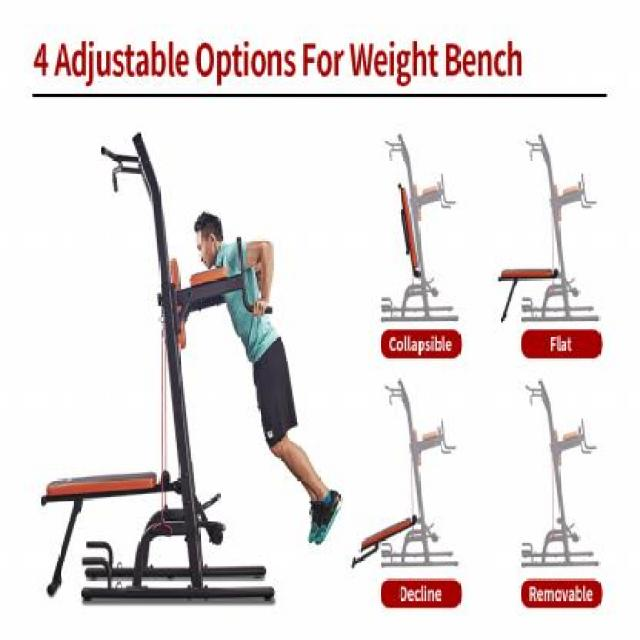chinning dipping: (134, 123, 278, 606)
